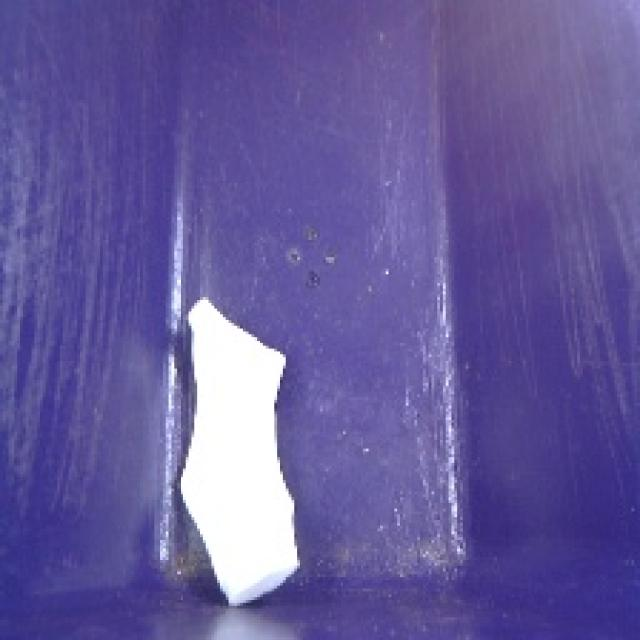china: (163, 289, 311, 616)
